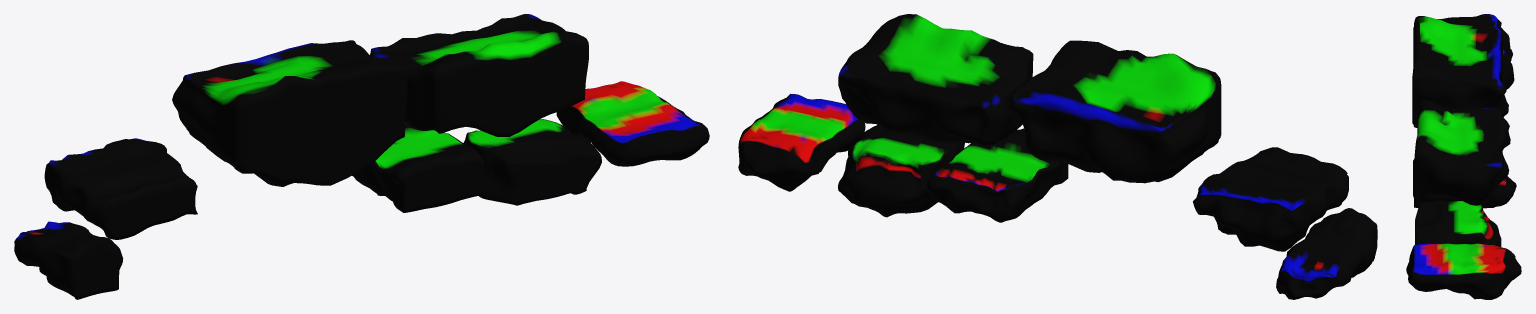
The model's file is PLATAFORMASSSS.fbx.
The picture shows the model from 3 angles, left to right: view 1: azimuth 30°, elevation 25°; view 2: azimuth 150°, elevation 25°; view 3: azimuth 270°, elevation 25°; orthographic projection. The views are drawn at different scales.
Visible parts, largest first — view 1: Floor_4, Floor_3, Floor_5, Floor, Floor1, Floor_2, Floor_6; view 2: Floor_4, Floor_3, Floor_5, Floor, Floor_2, Floor1, Floor_6; view 3: Floor_3, Floor_4, Floor, Floor1, Floor_2, Floor_5.
Boxes of the visible parts, x1,y1,x2,y2 form: Floor_4: (172,40,407,186); Floor_3: (370,14,588,136); Floor_5: (44,138,197,239); Floor: (556,81,709,166); Floor1: (463,119,601,205); Floor_2: (352,123,484,212); Floor_6: (14,221,123,299); Floor_4: (1010,40,1221,183); Floor_3: (838,14,1033,145); Floor_5: (1193,147,1348,251); Floor: (738,93,865,191); Floor_2: (927,128,1068,222); Floor1: (838,125,964,217); Floor_6: (1276,208,1377,299); Floor_3: (1414,99,1510,205); Floor_4: (1412,16,1514,127); Floor: (1406,243,1521,299); Floor1: (1415,200,1501,246); Floor_2: (1413,158,1516,208); Floor_5: (1437,14,1512,61).
Bounding box in the file's own units: 119 × 36.56 × 25.66.
